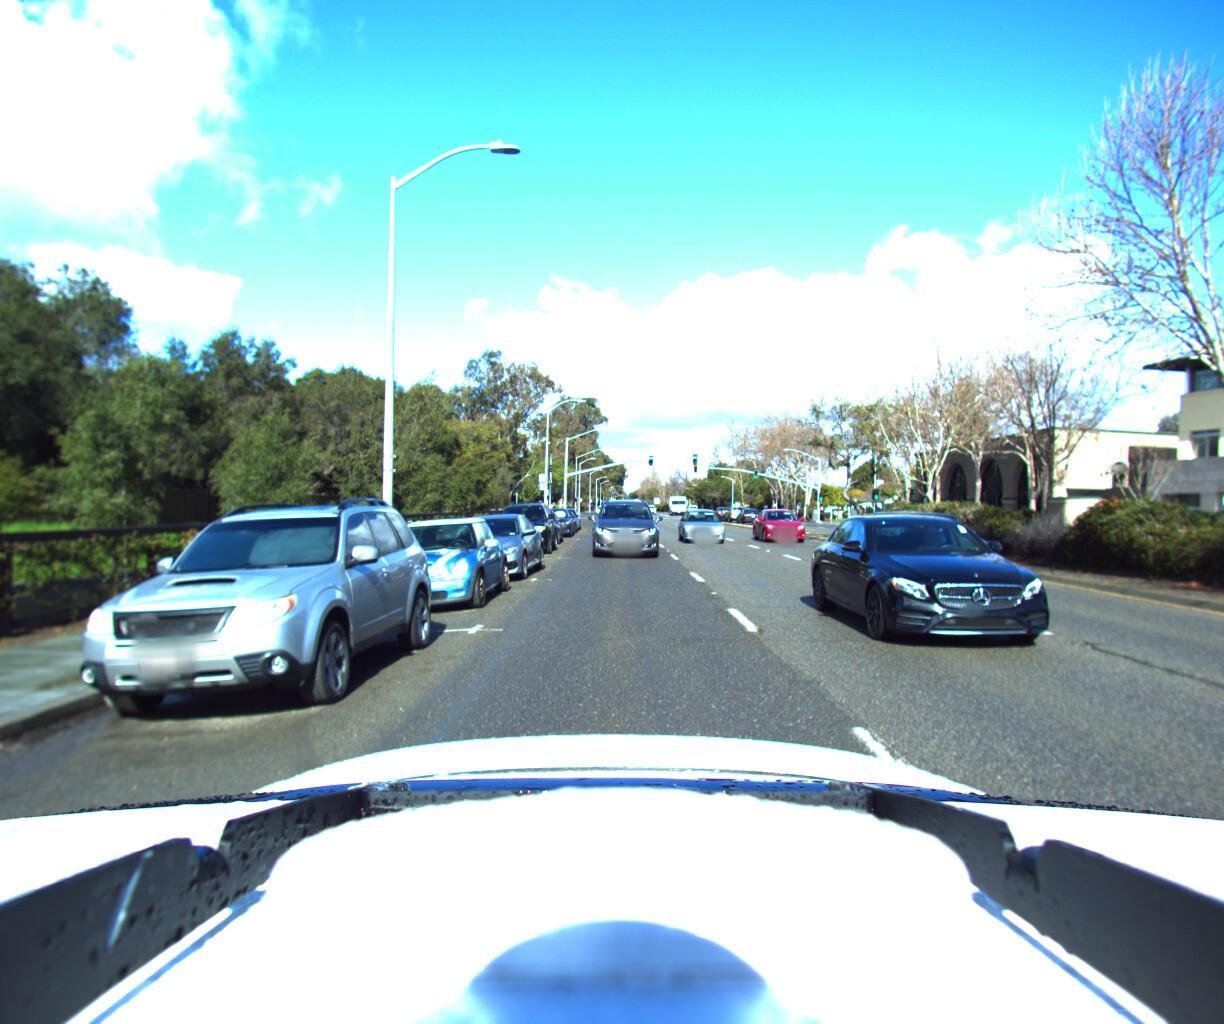car: (36, 486, 434, 738), (824, 511, 1164, 684), (355, 514, 502, 609), (869, 508, 1031, 584), (430, 511, 540, 584), (591, 491, 653, 559), (486, 499, 554, 555), (676, 504, 731, 544), (754, 506, 815, 542), (531, 506, 575, 537)
